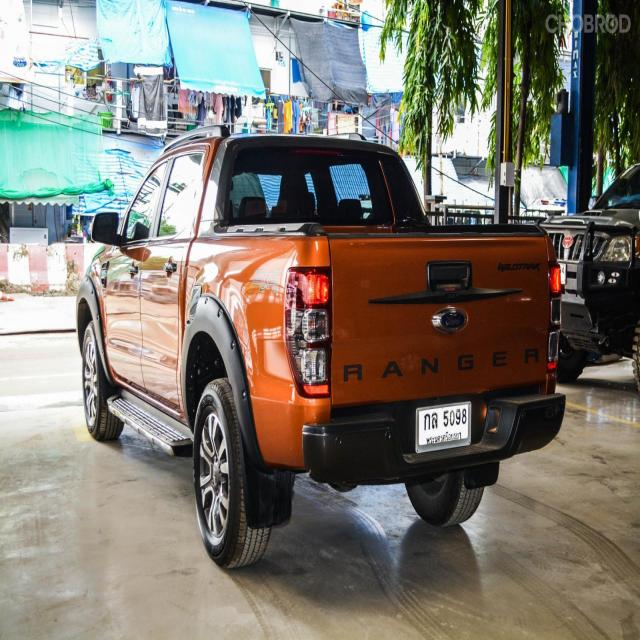license_plate: (417, 401, 474, 453)
